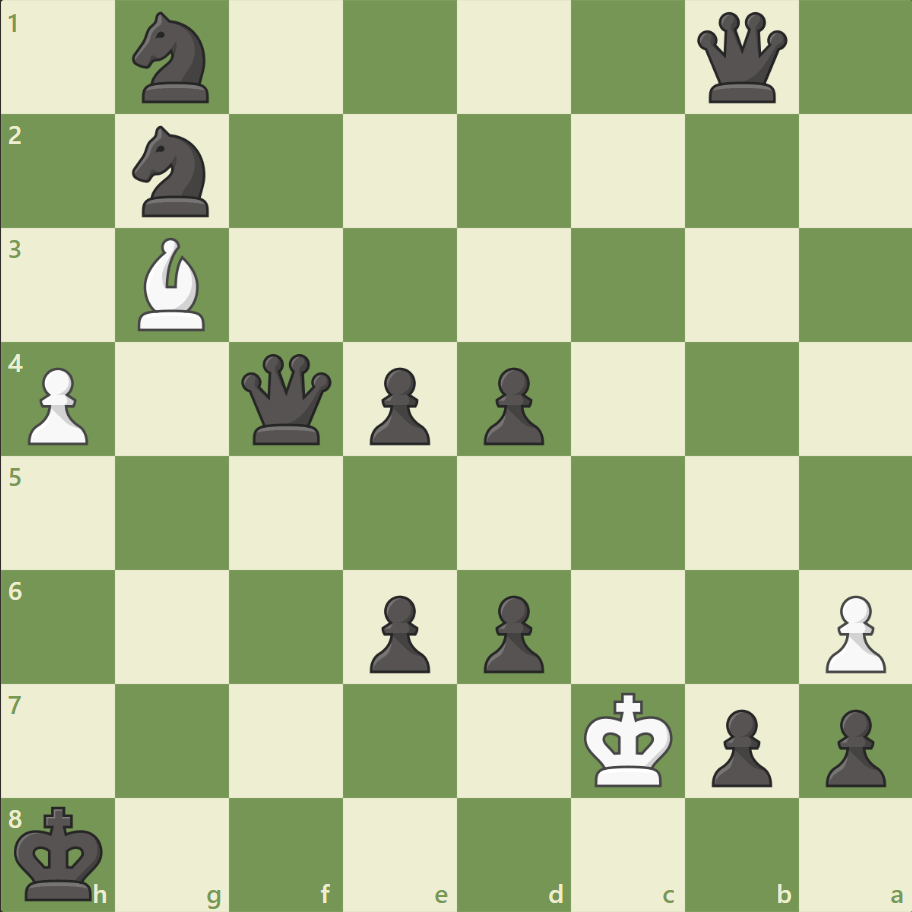B: (131, 233, 215, 336)
K: (579, 685, 679, 793)
P: (20, 359, 95, 450), (815, 586, 889, 677)
k: (11, 798, 111, 906)
n: (124, 7, 222, 110), (124, 121, 222, 223)
p: (701, 700, 776, 791), (474, 586, 549, 677), (474, 359, 549, 450), (815, 700, 889, 791), (361, 586, 435, 677), (361, 359, 435, 450)
q: (237, 349, 336, 449), (691, 9, 790, 108)
